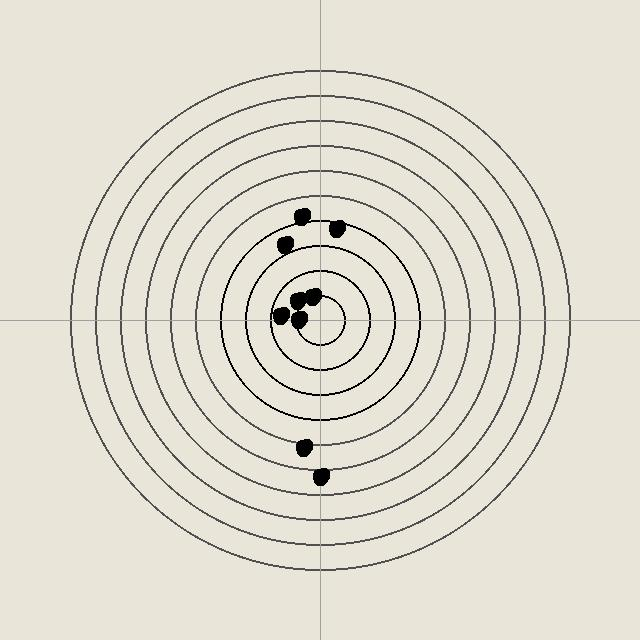vertical_scatter: (310, 466, 330, 486), (274, 234, 294, 254), (326, 218, 346, 238), (287, 290, 307, 310), (270, 305, 290, 325), (288, 309, 308, 329), (302, 286, 322, 306), (291, 206, 311, 226), (293, 437, 313, 457)
